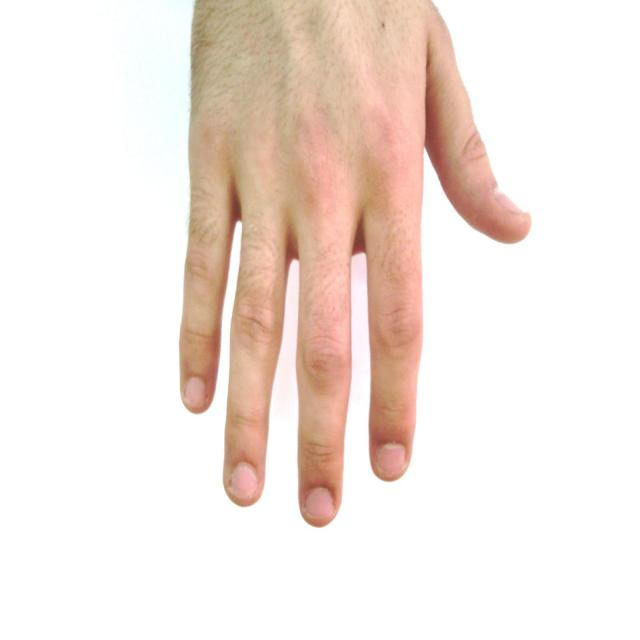others: (165, 0, 558, 535)
